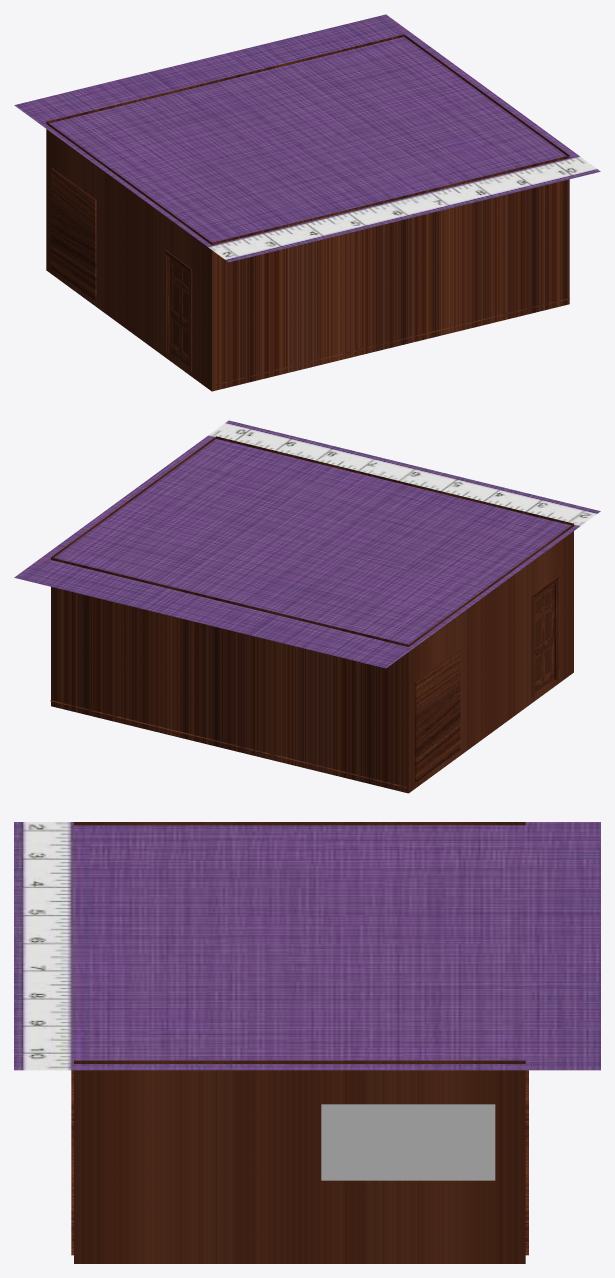
The model's file is PhongNgu2.glb.
The picture shows the model from 3 angles, top to bottom: view 1: azimuth 30°, elevation 25°; view 2: azimuth 150°, elevation 25°; view 3: azimuth 270°, elevation 25°; orthographic projection. The views are drawn at different scales.
Visible parts, largest first — view 1: roof, wall, closet, door, nen; view 2: roof, wall, closet, door, nen; view 3: roof, wall, glassWindow, nen.
Boxes of the visible parts, box(x1,y1,x2,y2) form: roof: box(14, 14, 600, 262); wall: box(46, 34, 569, 391); closet: box(51, 168, 96, 300); door: box(164, 249, 192, 371); nen: box(213, 298, 569, 385); roof: box(14, 420, 600, 668); wall: box(51, 436, 573, 793); closet: box(415, 650, 460, 781); door: box(531, 575, 559, 698); nen: box(50, 700, 406, 787); roof: box(14, 822, 600, 1070); wall: box(74, 822, 525, 1263); glassWindow: box(321, 1104, 495, 1180); nen: box(71, 1070, 528, 1255).
Bounding box in the file's own units: 156 × 59.72 × 156.
Materials: 10 (5 with a texture image).
